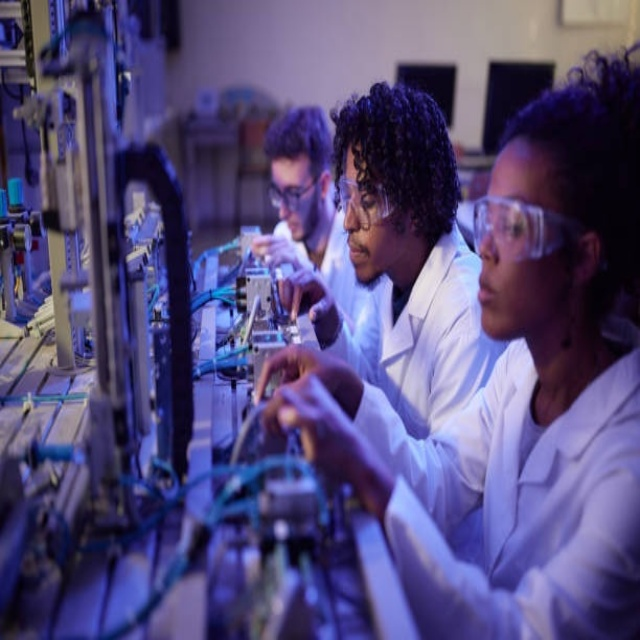Gafas: (470, 197, 589, 262), (338, 176, 399, 226), (268, 173, 320, 210)
Sin_guantes: (255, 367, 375, 499), (250, 328, 357, 424), (276, 256, 337, 329)
Sin_mascara: (474, 267, 510, 337), (346, 235, 376, 281), (280, 215, 305, 238)
